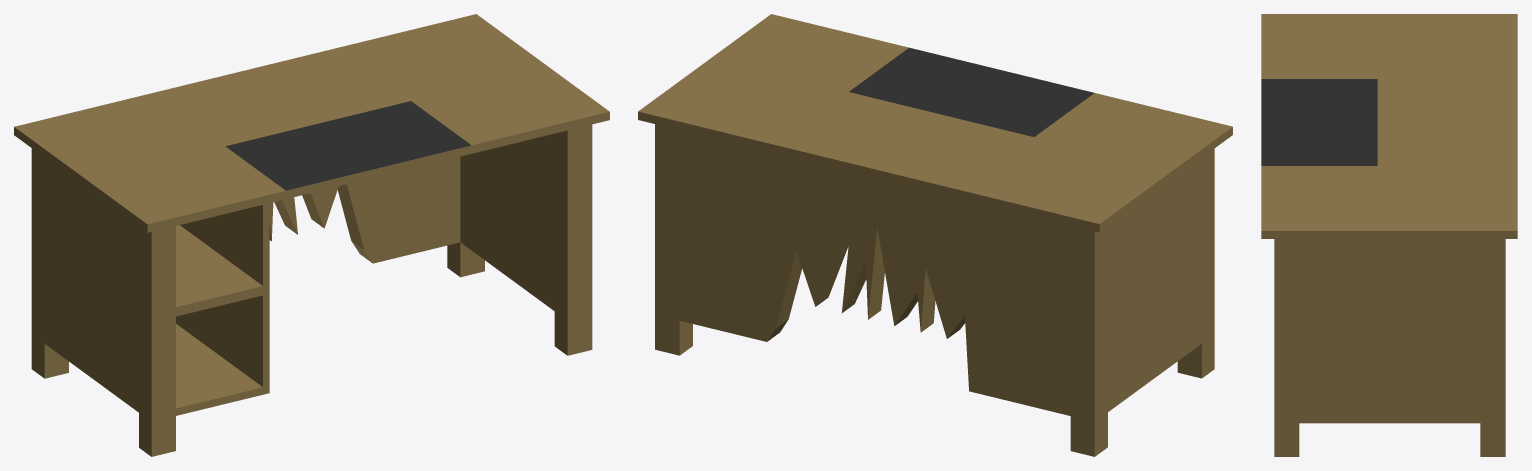
Rendered from Principals Desk Broken.fbx.
3 renders of one model, left to right at view 1: azimuth 30°, elevation 25°; view 2: azimuth 150°, elevation 25°; view 3: azimuth 270°, elevation 25°, orthographic. The views are drawn at different scales.
Parts seen in each view (by area): view 1: Principal Desk; view 2: Principal Desk; view 3: Principal Desk.
Boxes of the visible parts, <box> form: Principal Desk: <box>14,14,609,456</box>; Principal Desk: <box>638,14,1232,456</box>; Principal Desk: <box>1261,14,1517,456</box>.
Bounding box in the file's own units: 200 × 99.42 × 100.
